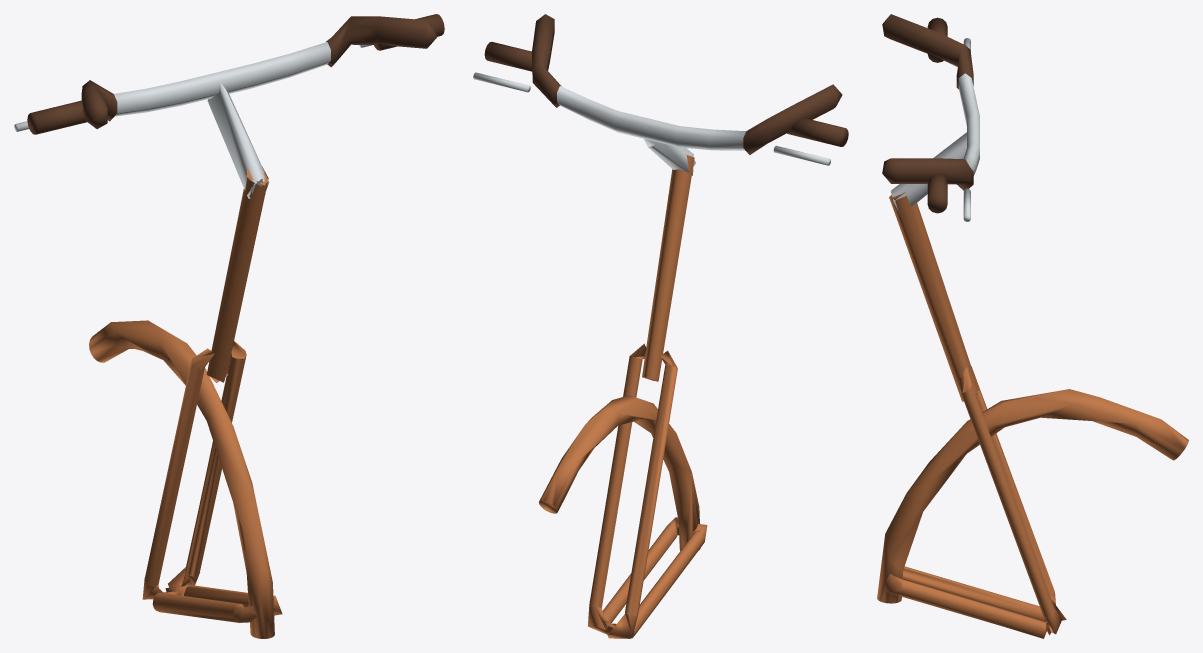
Rendered from Steering.fbx.
3 renders of one model, left to right at view 1: azimuth 30°, elevation 25°; view 2: azimuth 150°, elevation 25°; view 3: azimuth 270°, elevation 25°, orthographic. The views are drawn at different scales.
Visible parts, largest first — view 1: Steering; view 2: Steering; view 3: Steering.
Part boxes in pixels (box(x1,y1,x2,y2)): Steering: box(14, 14, 444, 638); Steering: box(473, 14, 848, 638); Steering: box(877, 14, 1188, 638).
Size of the model in its own units: 92 by 132 by 68.31.
